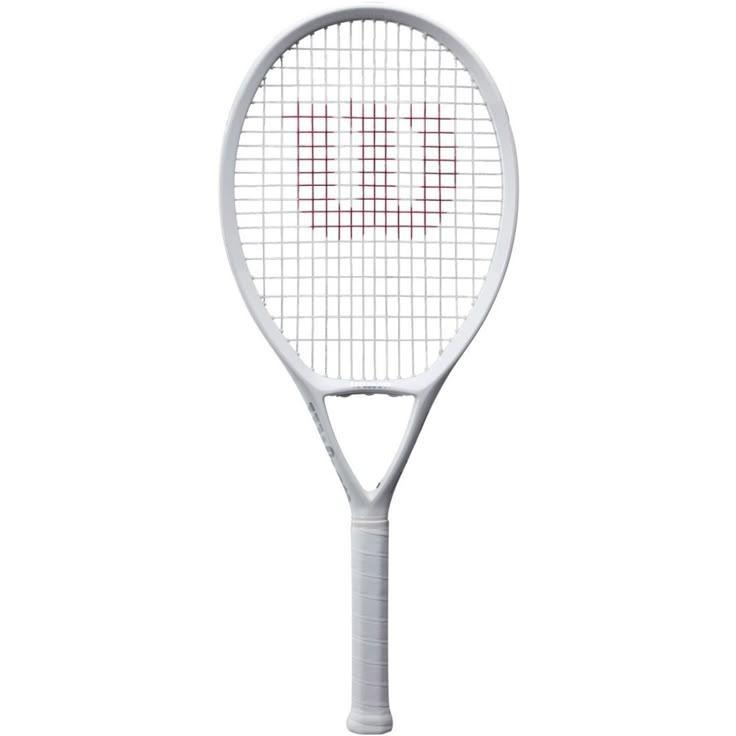Tennis-Racket: (218, 9, 512, 728)
